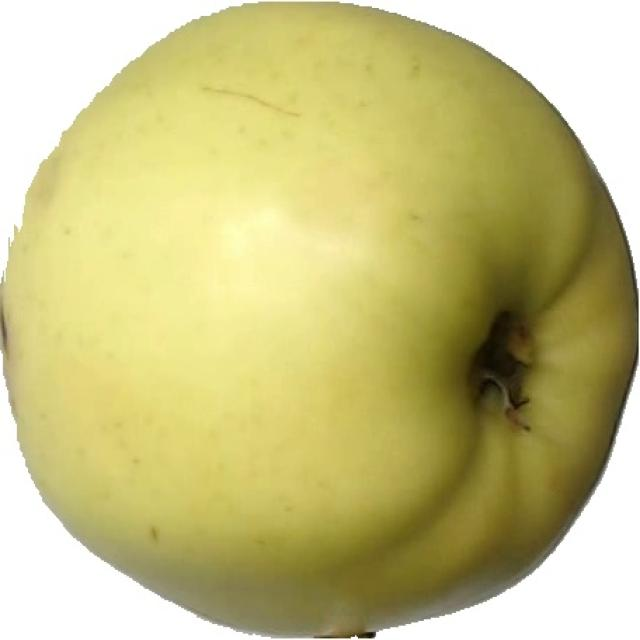Golden Elma: (11, 9, 638, 640)
